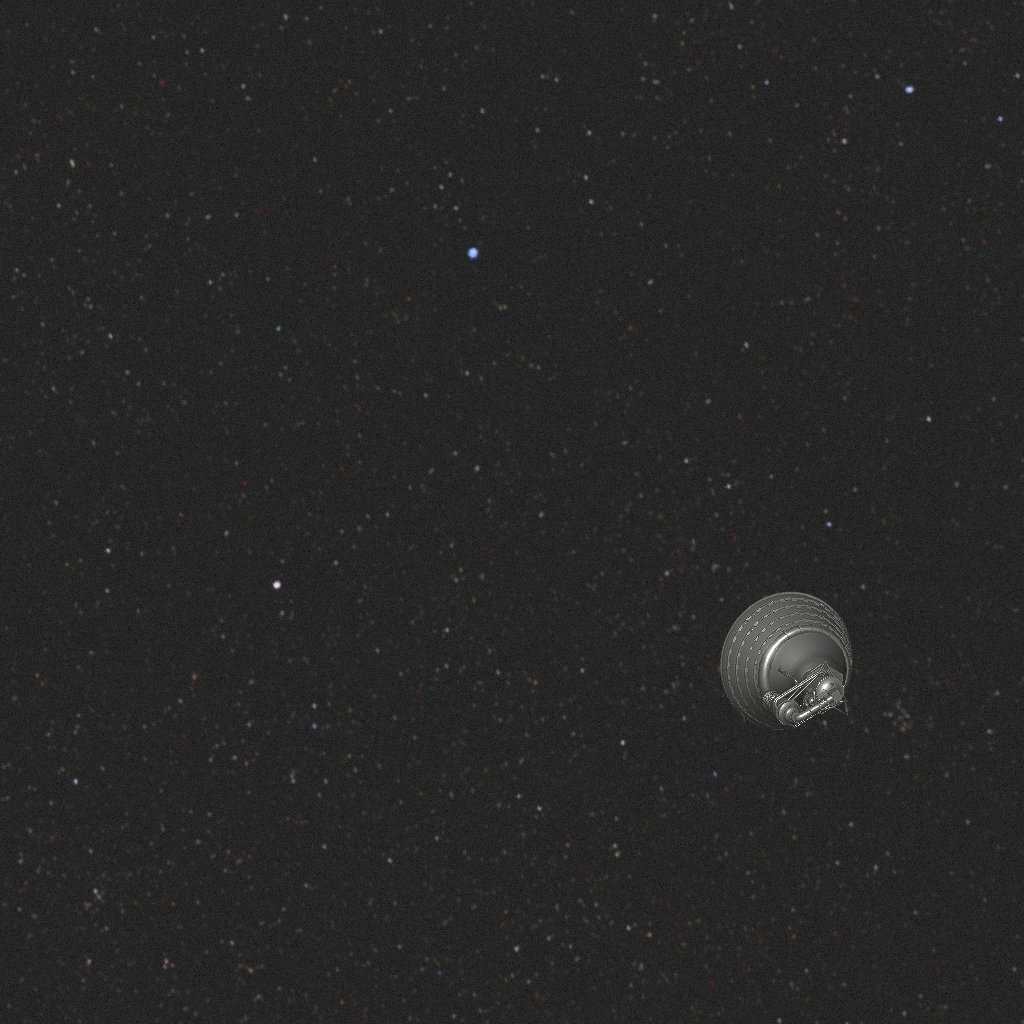debris: (720, 592, 853, 729)
